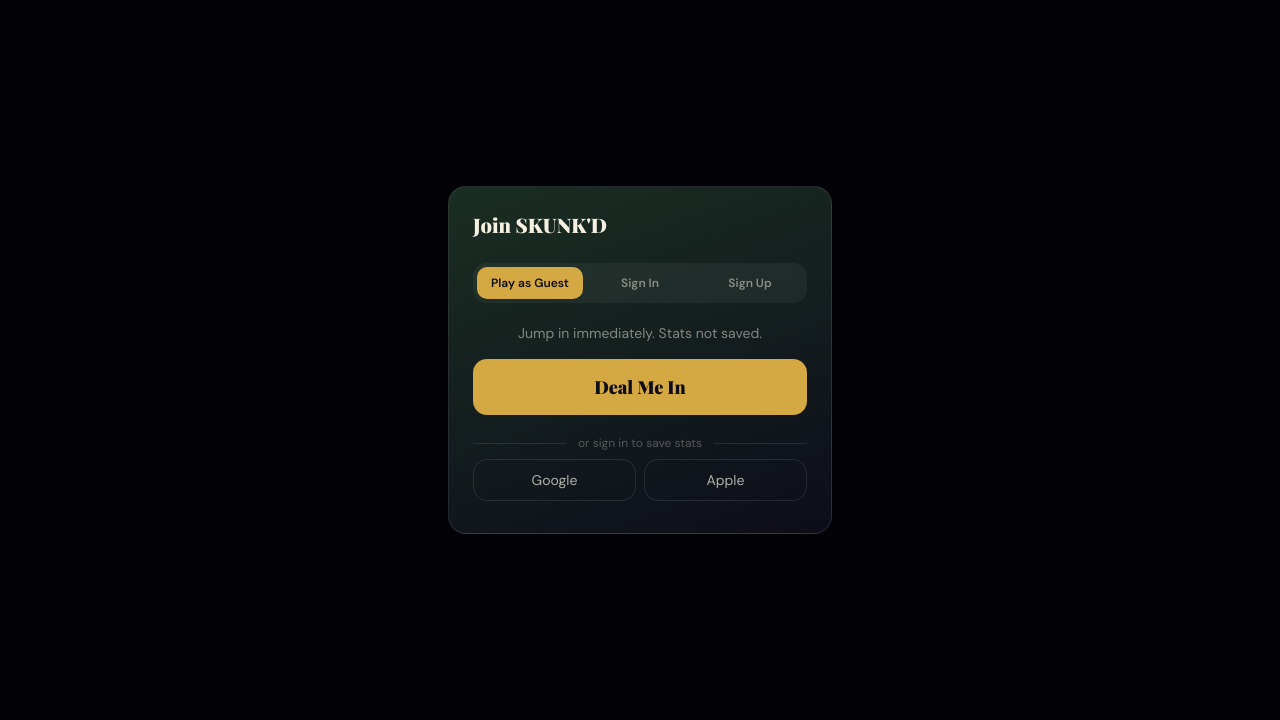
Scenario: AuthModal › shows email and password inputs on the Sign In tab
This screenshot has width=1280, height=720.
Click the button "Sign In" at (640, 283), box x1=587 y1=267 x2=693 y2=299
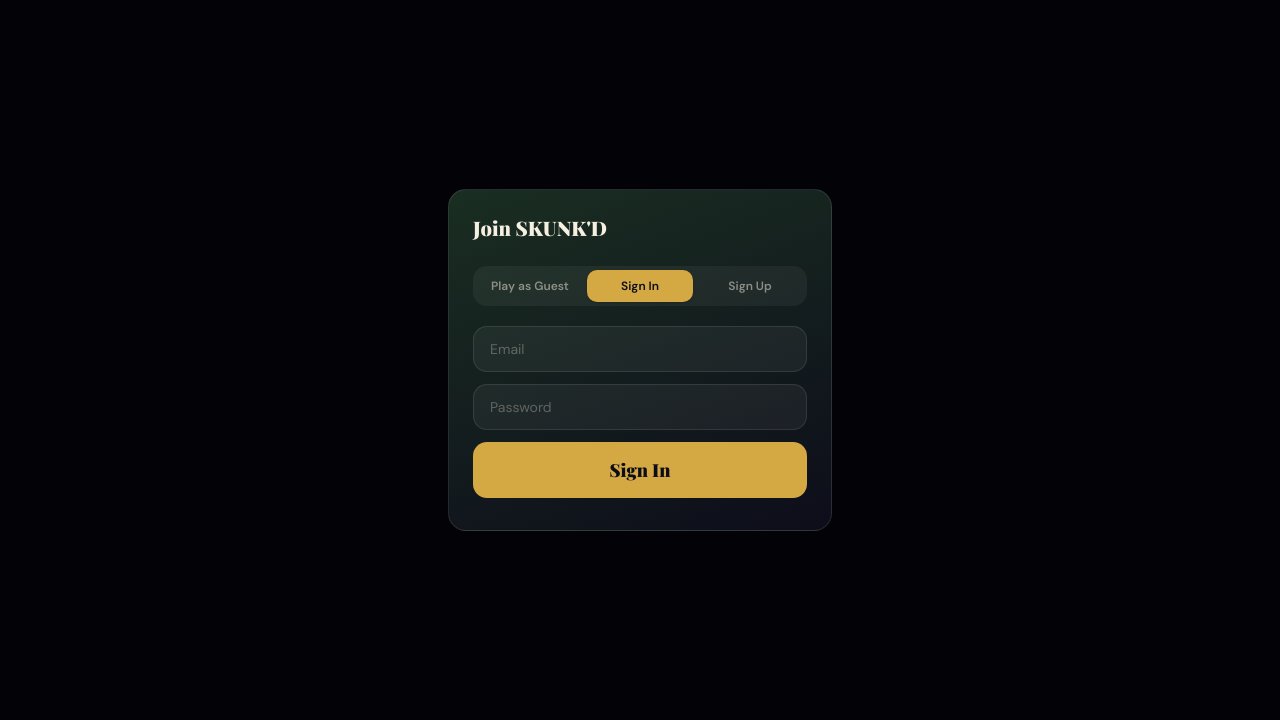
Now the field with test id "auth-email-input" is shown, box x1=473 y1=326 x2=807 y2=372
Now the password field with test id "auth-password-input" is shown, box x1=473 y1=384 x2=807 y2=430
